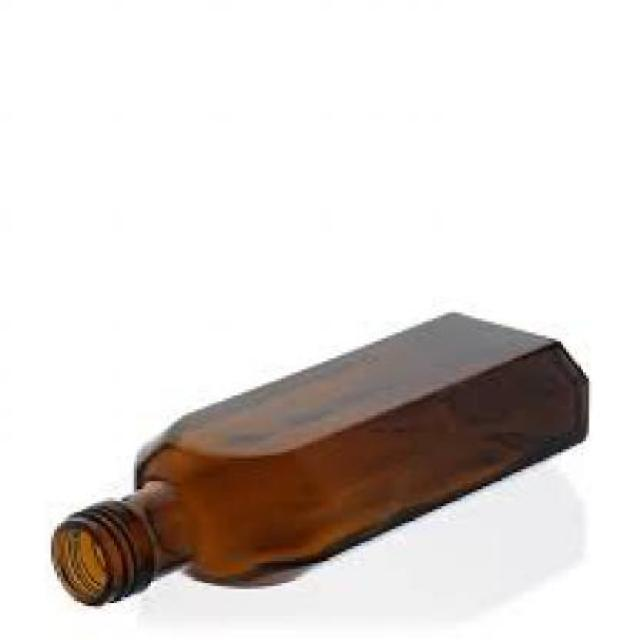kaca: (48, 309, 586, 606)
